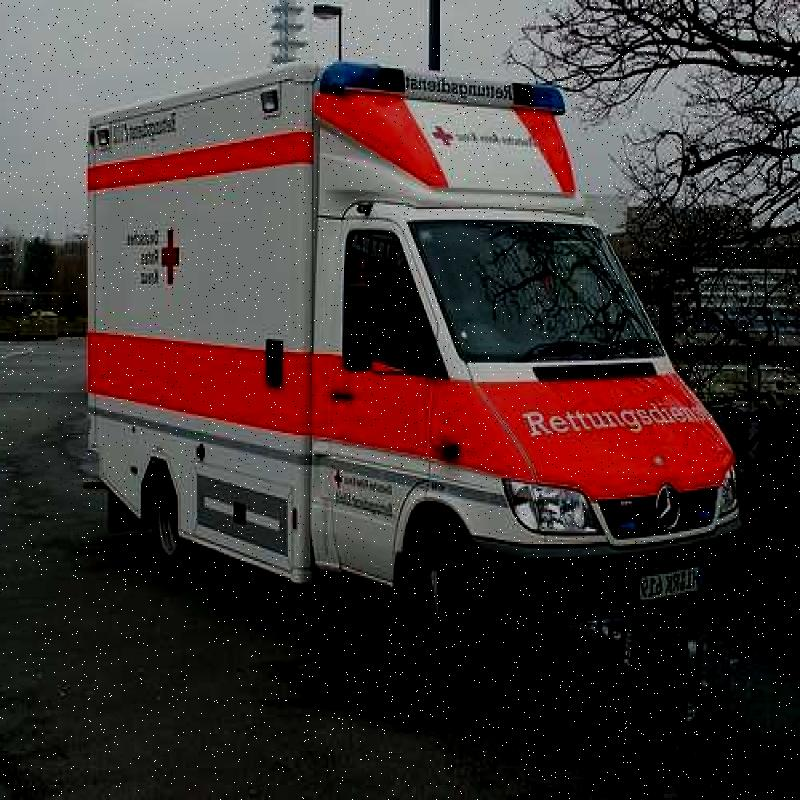AmbulanceSiren: (326, 56, 582, 126)
